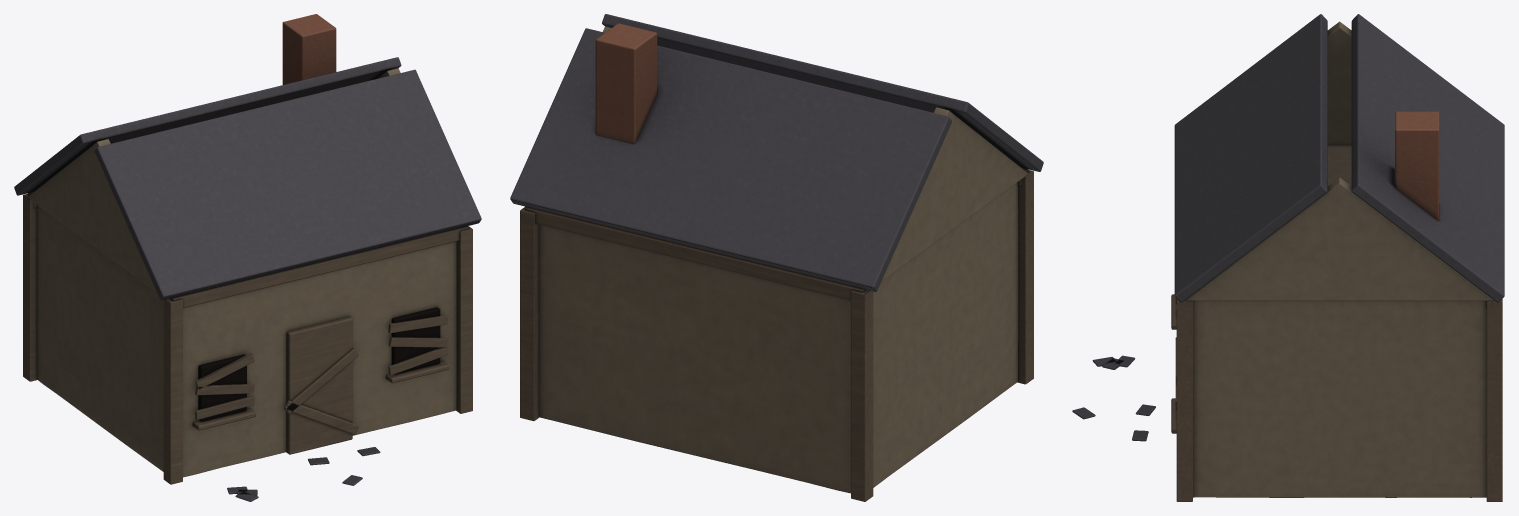
File: vespera_casa_tapada_p.glb
3 views of the same model, side by side, from view 1: azimuth 30°, elevation 25°; view 2: azimuth 150°, elevation 25°; view 3: azimuth 270°, elevation 25° (orthographic). The views are drawn at different scales.
Parts seen in each view (by area): view 1: vespera_casa_tapada_p_tronco; view 2: vespera_casa_tapada_p_tronco; view 3: vespera_casa_tapada_p_tronco.
Boxes of the visible parts, x1,y1,x2,y2 form: vespera_casa_tapada_p_tronco: (14,14,481,501); vespera_casa_tapada_p_tronco: (510,14,1043,501); vespera_casa_tapada_p_tronco: (1072,14,1504,501).
Bounding box in the file's own units: 5.5 × 5.27 × 5.86.
Materials: 1 (1 with a texture image).
